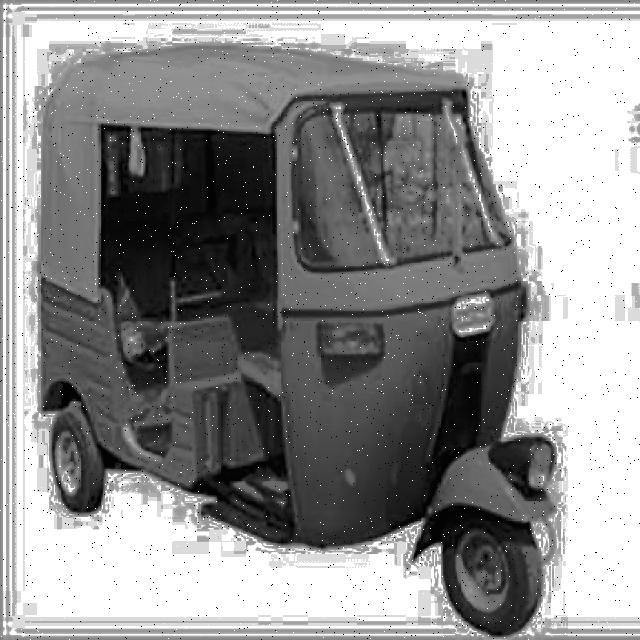Auto-Rickshaw: (40, 43, 555, 635)
